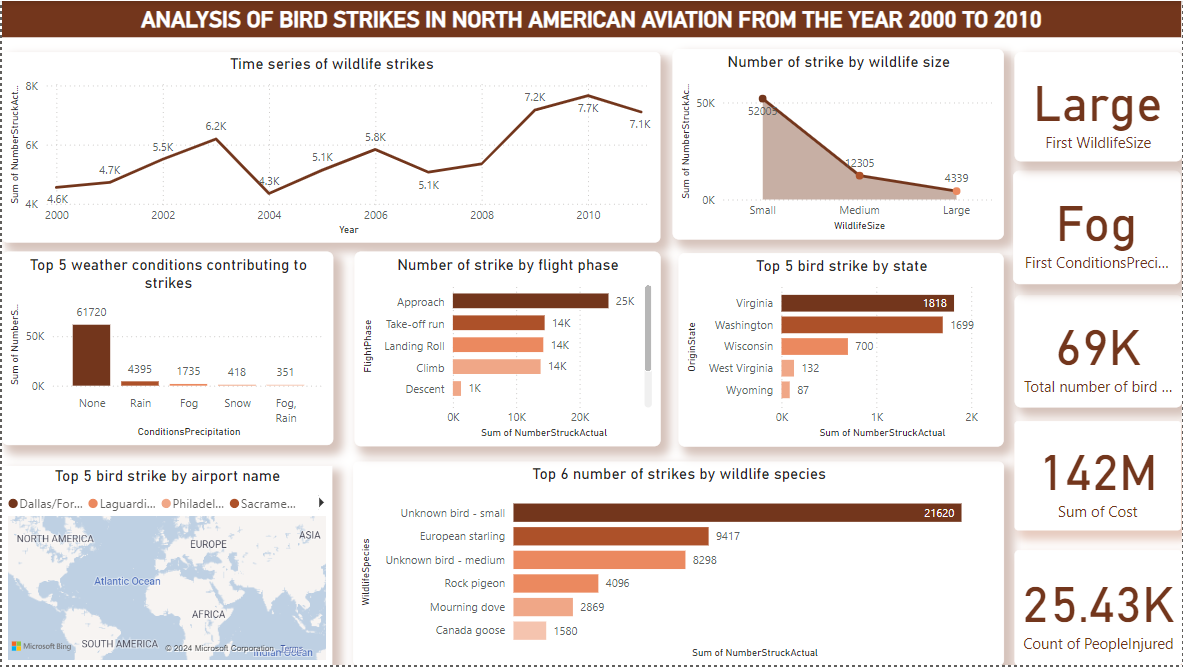

The dashboard page shown, as its layout file describes it:
{"tool":"powerbi","page":{"name":"Page 1","canvas":[1280,720],"ordinal":0},"visuals":[{"type":"barChart","title":"Top 6 number of strikes by wildlife species","fields":{"Category":["Bird_strikes.WildlifeSpecies"],"Y":["Sum(Bird_strikes.NumberStruckActual)"]},"box":[380.6,499.3,705.9,221.2],"z":0},{"type":"lineChart","title":"Time series of wildlife strikes","fields":{"Category":["Bird_strikes.FlightDate.Variation.Date Hierarchy.Year"],"Y":["Sum(Bird_strikes.NumberStruckActual)"]},"box":[0,55.3,714.1,206.6],"z":1000},{"type":"columnChart","title":"Top 5 weather conditions contributing to strikes","fields":{"Category":["Bird_strikes.ConditionsPrecipitation"],"Y":["Sum(Bird_strikes.NumberStruckActual)"]},"box":[0,271.6,359.5,209.8],"z":2000},{"type":"textbox","box":[0,0,1278.5,39],"z":3000},{"type":"map","title":"Top 5 bird strike by airport name","fields":{"Series":["Bird_strikes.AirportName"],"Size":["Sum(Bird_strikes.NumberStruckActual)"]},"box":[0,504.2,357.8,216.3],"z":4000},{"type":"barChart","title":"Number of strike by flight phase","fields":{"Category":["Bird_strikes.FlightPhase"],"Y":["Sum(Bird_strikes.NumberStruckActual)"]},"box":[382.2,271.6,331.8,211.5],"z":5000},{"type":"areaChart","title":"Number of strike by wildlife size","fields":{"Category":["Bird_strikes.WildlifeSize"],"Y":["Sum(Bird_strikes.NumberStruckActual)"]},"box":[727.1,52,359.5,206.6],"z":6000},{"type":"barChart","title":"Top 5 bird strike by state","fields":{"Y":["Sum(Bird_strikes.NumberStruckActual)"],"Category":["Bird_strikes.OriginState"]},"box":[733.6,273.3,353,209.8],"z":7000},{"type":"card","fields":{"Values":["Sum(Bird_strikes.NumberStruckActual)"]},"box":[1097.8,318.8,182.2,122],"z":8000},{"type":"card","fields":{"Values":["Sum(Bird_strikes.Cost)"]},"box":[1097.9,455.4,180.5,118.7],"z":9000},{"type":"card","fields":{"Values":["CountNonNull(Bird_strikes.PeopleInjured)"]},"box":[1097.9,595.3,182.2,125.2],"z":10000},{"type":"card","fields":{"Values":["Min(Bird_strikes.ConditionsPrecipitation)"]},"box":[1096.3,183.8,182.2,123.6],"z":11000},{"type":"card","fields":{"Values":["Min(Bird_strikes.WildlifeSize)"]},"box":[1097.9,55.3,182.2,118.7],"z":12000}]}

Visuals, with their boxes in screenshot pixels (x1, y1, x2, y2), scaled from the page's 1280x720 canvas onto the 1183x667 screenshot:
"Top 6 number of strikes by wildlife species" barChart: 352:463:1004:666
"Time series of wildlife strikes" lineChart: 0:51:660:243
"Top 5 weather conditions contributing to strikes" columnChart: 0:252:332:446
textbox: 0:0:1182:36
"Top 5 bird strike by airport name" map: 0:467:331:666
"Number of strike by flight phase" barChart: 353:252:660:448
"Number of strike by wildlife size" areaChart: 672:48:1004:240
"Top 5 bird strike by state" barChart: 678:253:1004:448
card - Sum(Bird_strikes.NumberStruckActual): 1015:295:1182:408
card - Sum(Bird_strikes.Cost): 1015:422:1182:532
card - CountNonNull(Bird_strikes.PeopleInjured): 1015:551:1182:666
card - Min(Bird_strikes.ConditionsPrecipitation): 1013:170:1182:285
card - Min(Bird_strikes.WildlifeSize): 1015:51:1182:161
